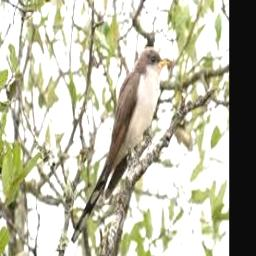Cuckoo: (70, 46, 168, 246)
